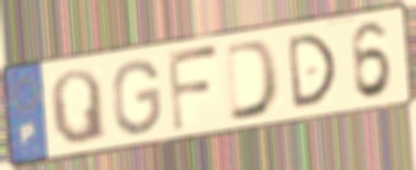6: (349, 18, 395, 103)
D: (222, 36, 284, 125), (284, 30, 340, 113)
F: (164, 43, 222, 135)
G: (110, 57, 163, 138)
Q: (47, 66, 110, 148)
